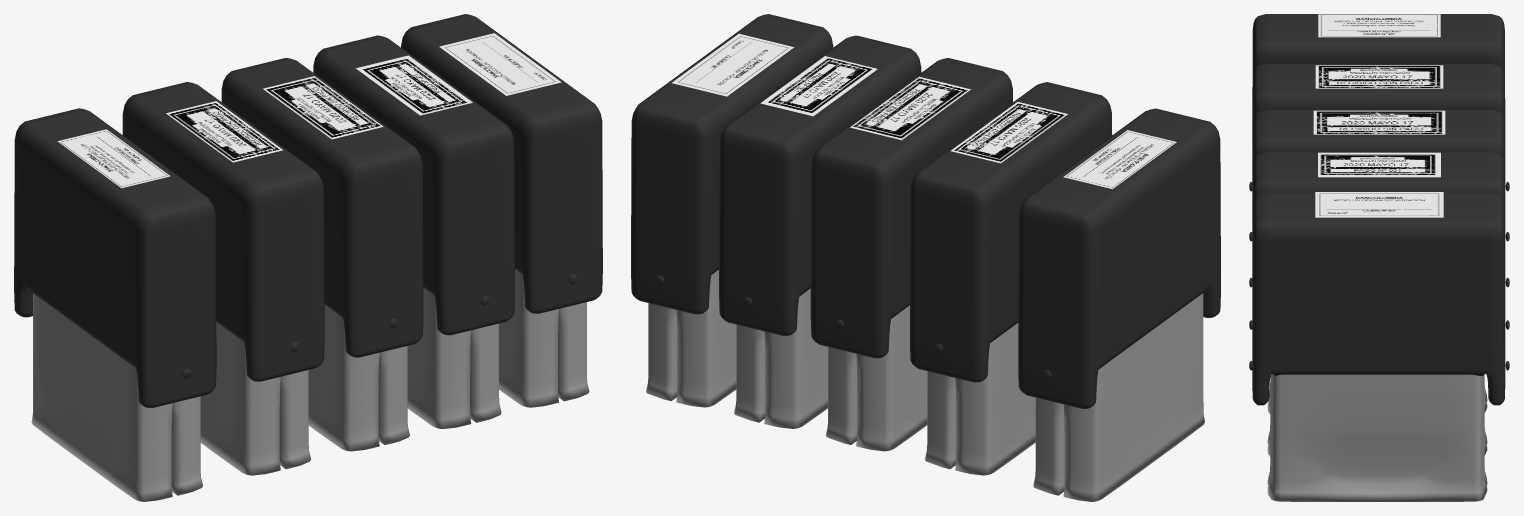
Rendered from sellos.fbx.
3 views of the same model, side by side, from view 1: azimuth 30°, elevation 25°; view 2: azimuth 150°, elevation 25°; view 3: azimuth 270°, elevation 25° (orthographic). The views are drawn at different scales.
Visible parts, largest first — view 1: sello_visitacionFirma, recibidoConPago, recibidoSinPago, sello_Pago, sello_Visitacion; view 2: sello_visitacionFirma, recibidoConPago, recibidoSinPago, sello_Pago, sello_Visitacion; view 3: sello_Visitacion, sello_visitacionFirma, recibidoConPago, recibidoSinPago, sello_Pago.
Boxes of the visible parts, box(x1,y1,x2,y2) form: sello_visitacionFirma: box(14, 108, 216, 501); recibidoConPago: box(122, 82, 324, 475); recibidoSinPago: box(221, 58, 423, 451); sello_Pago: box(313, 35, 514, 428); sello_Visitacion: box(401, 14, 602, 407); sello_visitacionFirma: box(1018, 108, 1220, 501); recibidoConPago: box(910, 82, 1112, 475); recibidoSinPago: box(810, 58, 1012, 451); sello_Pago: box(719, 35, 921, 428); sello_Visitacion: box(631, 14, 833, 407); sello_Visitacion: box(1249, 192, 1509, 501); sello_visitacionFirma: box(1249, 14, 1509, 191); recibidoConPago: box(1249, 64, 1509, 241); recibidoSinPago: box(1249, 110, 1509, 414); sello_Pago: box(1249, 152, 1509, 456).
Bounding box in the file's own units: 20.93 × 12.8 × 10.71.
3 materials, 1 textured.
